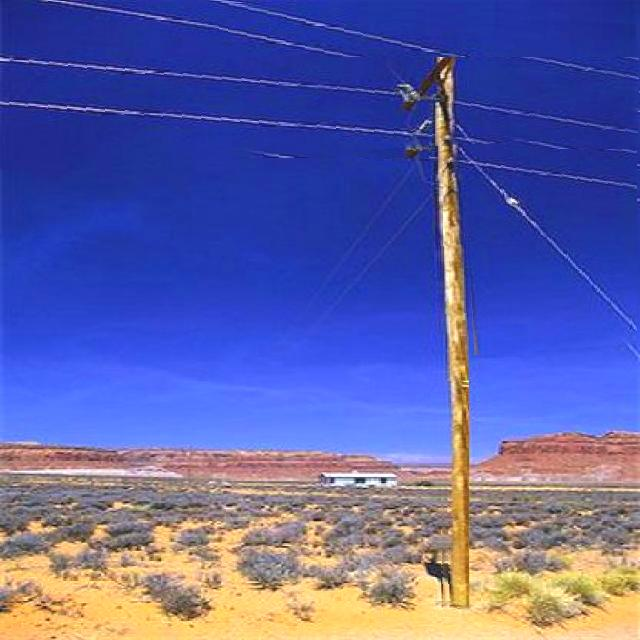crossarm: (407, 53, 473, 132)
pole: (436, 77, 469, 609)
wire: (48, 2, 637, 109), (0, 57, 638, 143), (462, 150, 637, 339), (219, 2, 576, 91), (0, 100, 317, 158)
